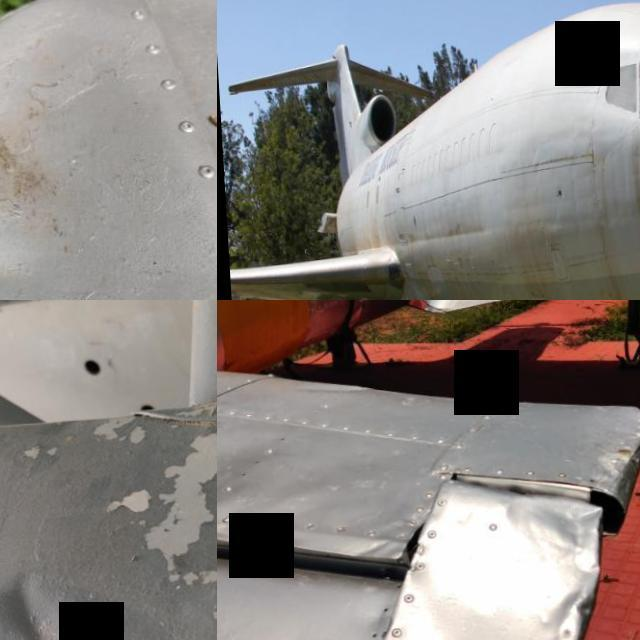Dent: (485, 488, 608, 591), (478, 570, 611, 640), (0, 568, 78, 640), (0, 211, 57, 300)
